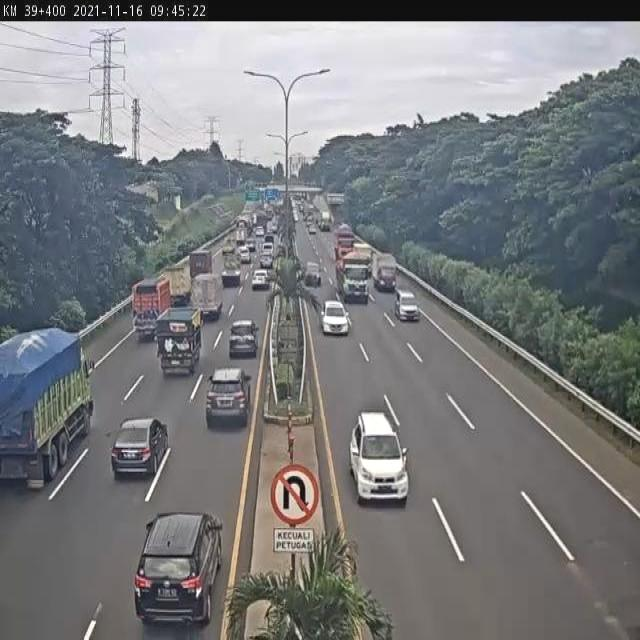Car: (134, 510, 222, 627), (349, 411, 409, 507), (112, 417, 167, 478), (206, 367, 252, 428), (229, 320, 260, 360), (320, 301, 350, 336), (394, 290, 422, 323), (303, 261, 323, 285), (252, 268, 270, 290), (260, 252, 276, 268), (239, 245, 251, 262), (246, 238, 257, 252), (308, 224, 318, 236), (255, 225, 264, 237)
Truck: (0, 325, 96, 492), (156, 305, 204, 374), (130, 277, 172, 343), (335, 252, 373, 304), (189, 270, 224, 324), (162, 265, 192, 306), (371, 252, 399, 292), (333, 224, 355, 262), (188, 248, 214, 280), (222, 252, 243, 288), (352, 243, 373, 276), (318, 210, 332, 232), (234, 226, 247, 247)
